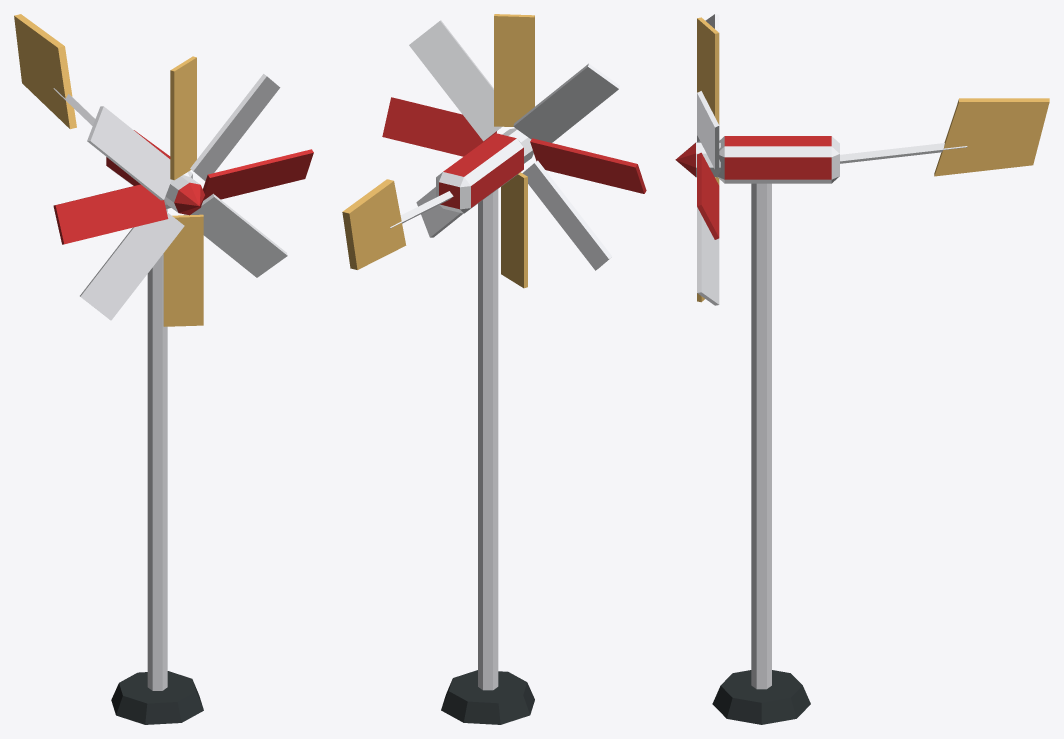
The model's file is windrad.glb.
3 renders of one model, left to right at view 1: azimuth 30°, elevation 25°; view 2: azimuth 150°, elevation 25°; view 3: azimuth 270°, elevation 25°, orthographic. The views are drawn at different scales.
Parts seen in each view (by area): view 1: rad-m, windrad-m; view 2: rad-m, windrad-m; view 3: windrad-m, rad-m.
Part boxes in pixels (x1,y1,x2,y2): rad-m: (53,56,313,326); windrad-m: (14,14,203,724); rad-m: (382,14,646,288); windrad-m: (342,133,534,724); windrad-m: (712,98,1049,724); rad-m: (675,14,720,305).
Bounding box in the file's own units: 0.72 × 1.82 × 0.91.
